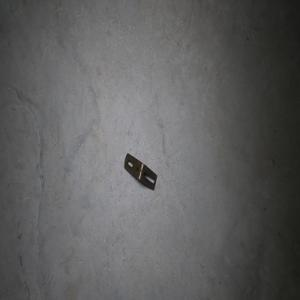MetalPart: (123, 152, 157, 191)
